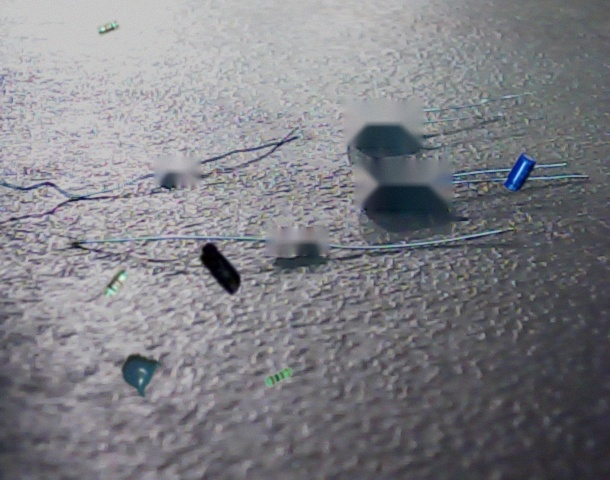capacitor: (200, 243, 241, 296), (121, 353, 162, 397), (504, 152, 536, 192)
resistor: (101, 267, 131, 300), (265, 367, 294, 386), (97, 20, 119, 36)
